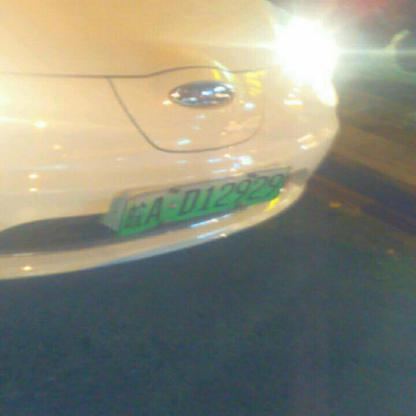lp: (117, 167, 290, 236)
